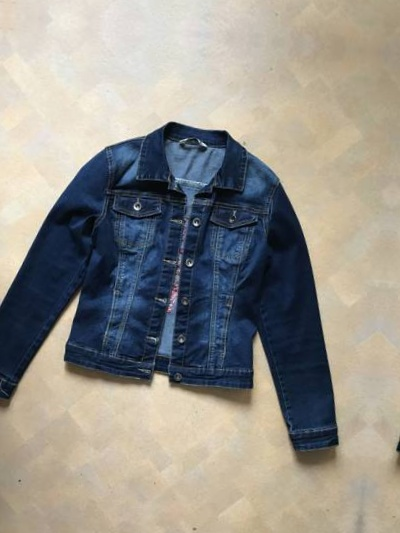Blazer: (0, 104, 394, 474), (370, 144, 400, 514)
